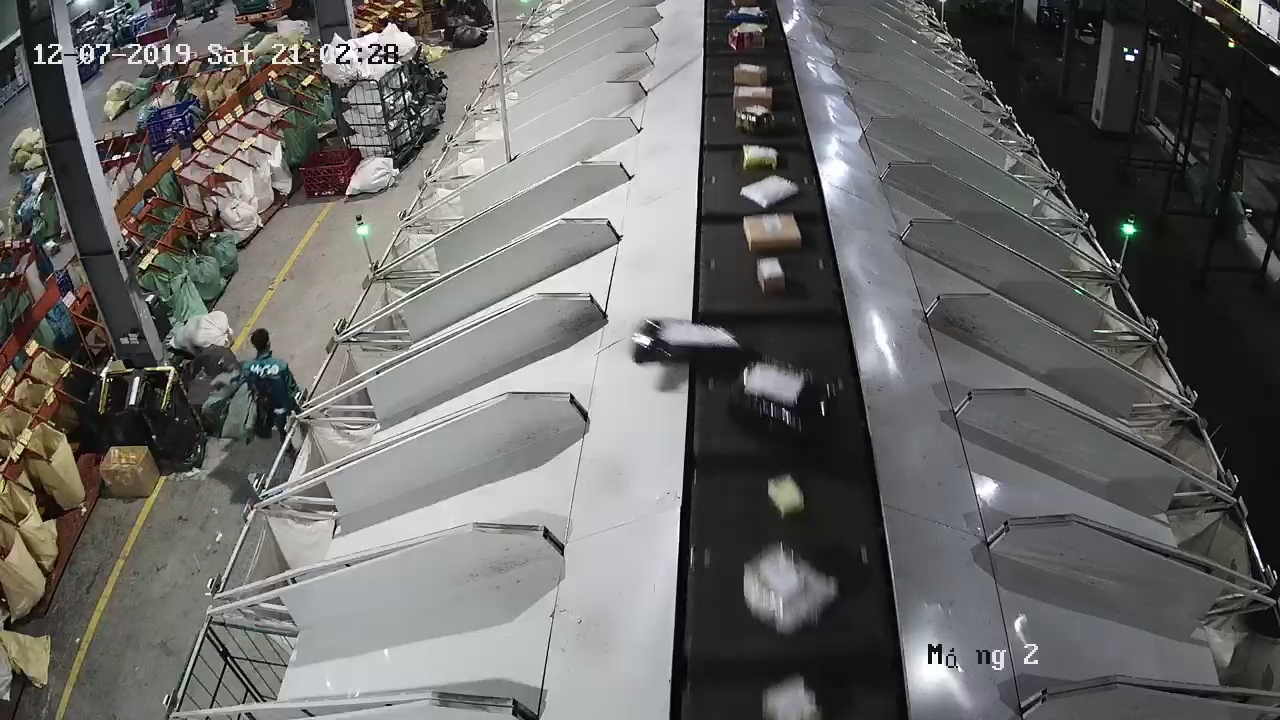parcel: (629, 316, 745, 366), (738, 174, 799, 209), (766, 472, 805, 519)
